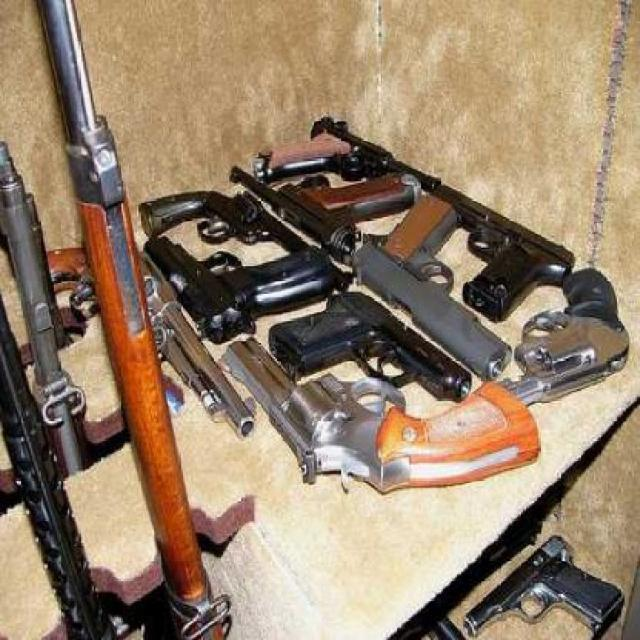weapon: (34, 0, 238, 640), (0, 142, 164, 640), (226, 338, 528, 480), (270, 286, 466, 412), (153, 232, 334, 326), (440, 185, 562, 322), (504, 275, 632, 403), (464, 544, 634, 632)
